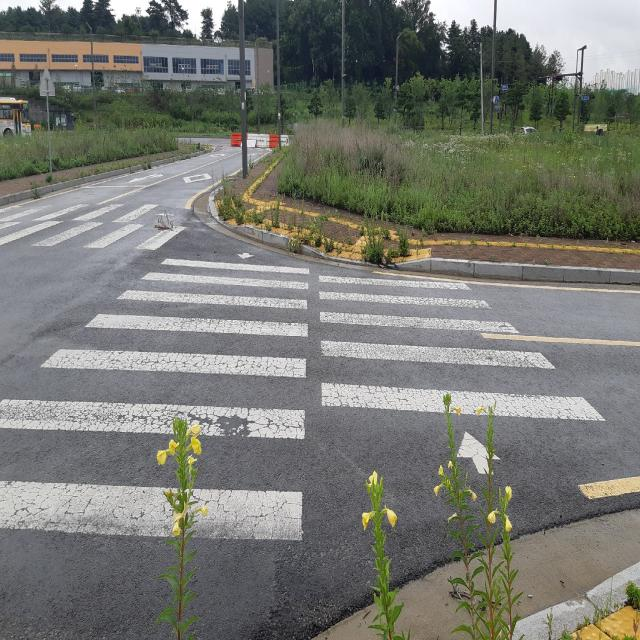횡단보도: (0, 247, 609, 547)
